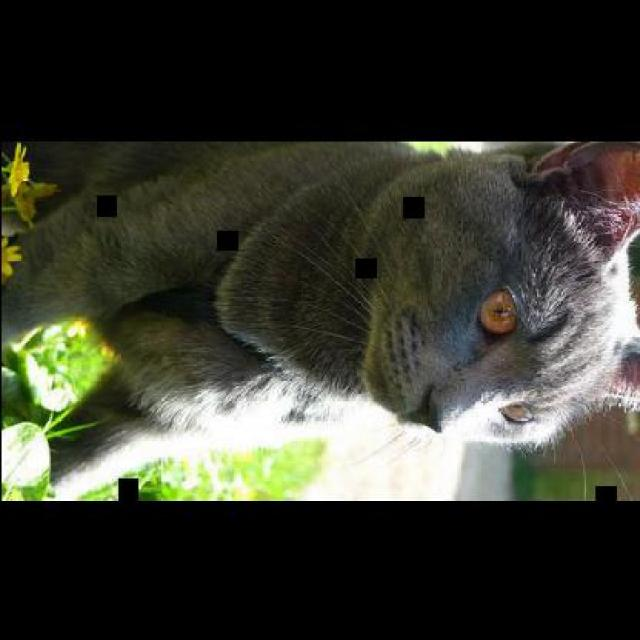unauthorized: (0, 138, 638, 498)
